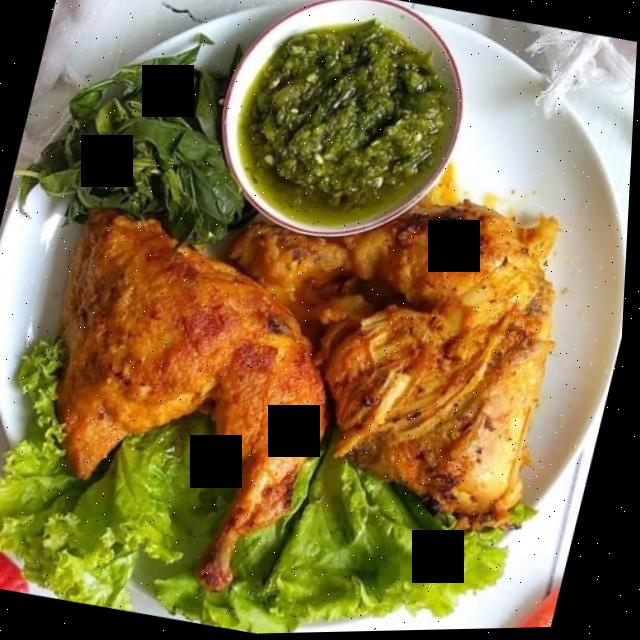Frango: (4, 199, 369, 605), (206, 163, 581, 550)
